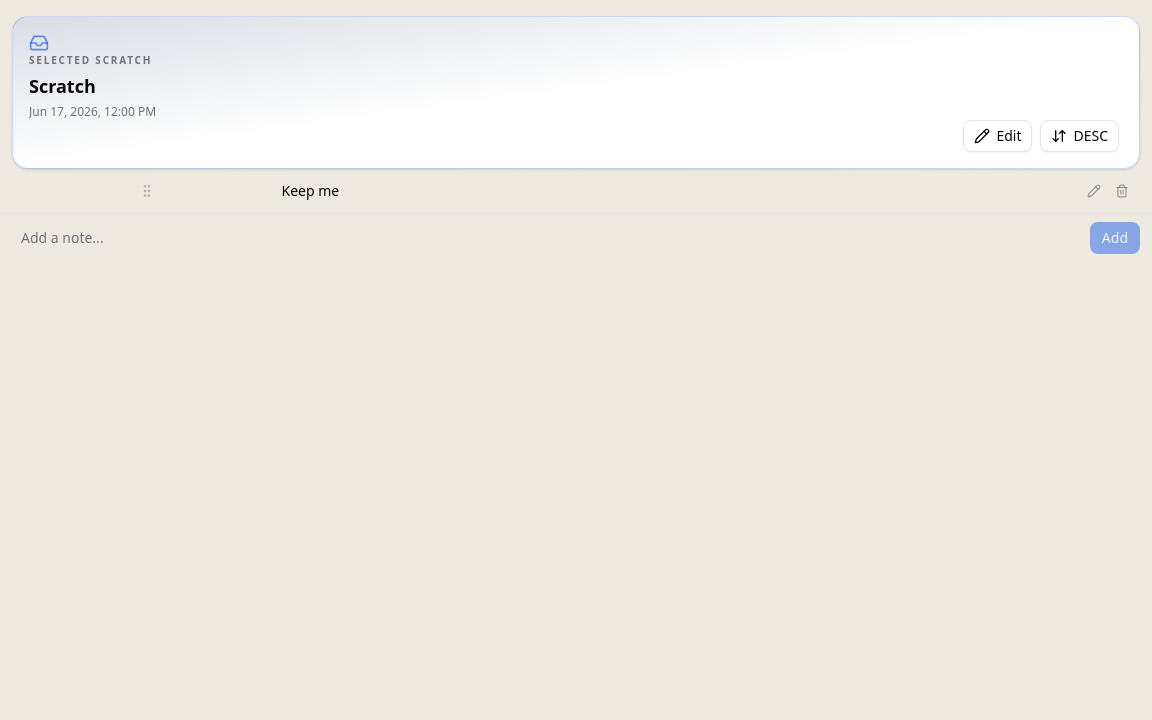
Scenario: BreakdownPanel › does not delete when cancelling the confirmation dialog
The image size is (1152, 720).
Click the button named "Delete" at point(1122, 191), box [1108,177,1136,205]
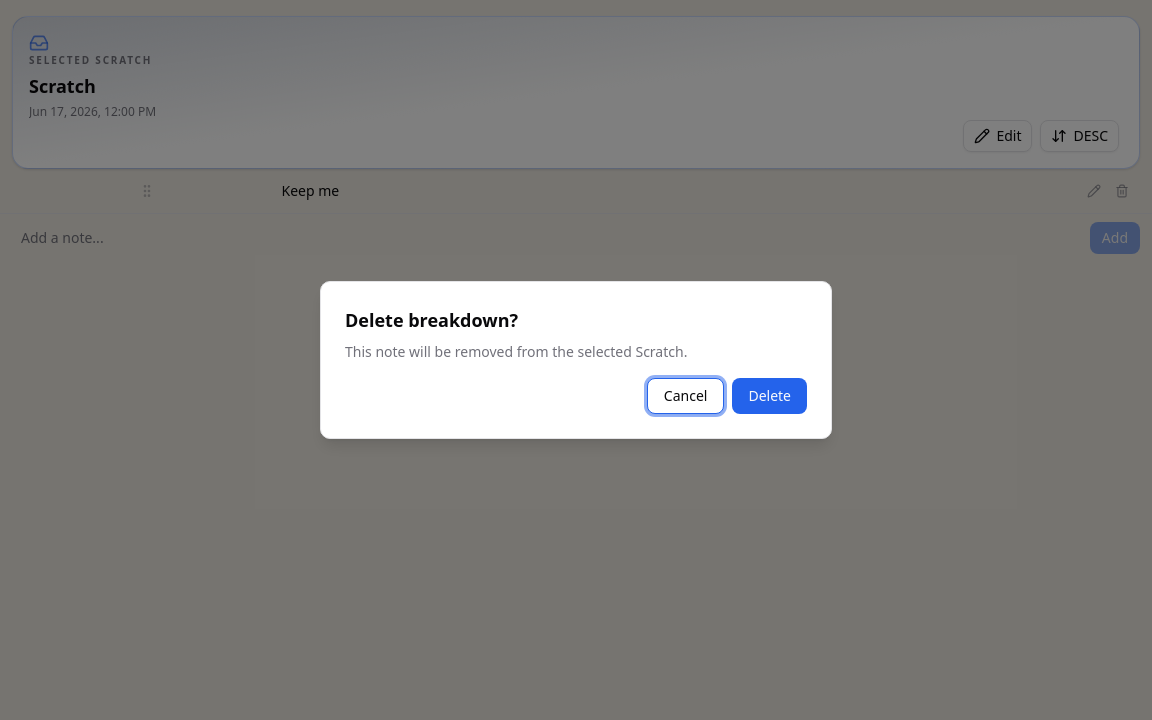
Click the button "Cancel" at point(686, 396), box [647,378,724,414]
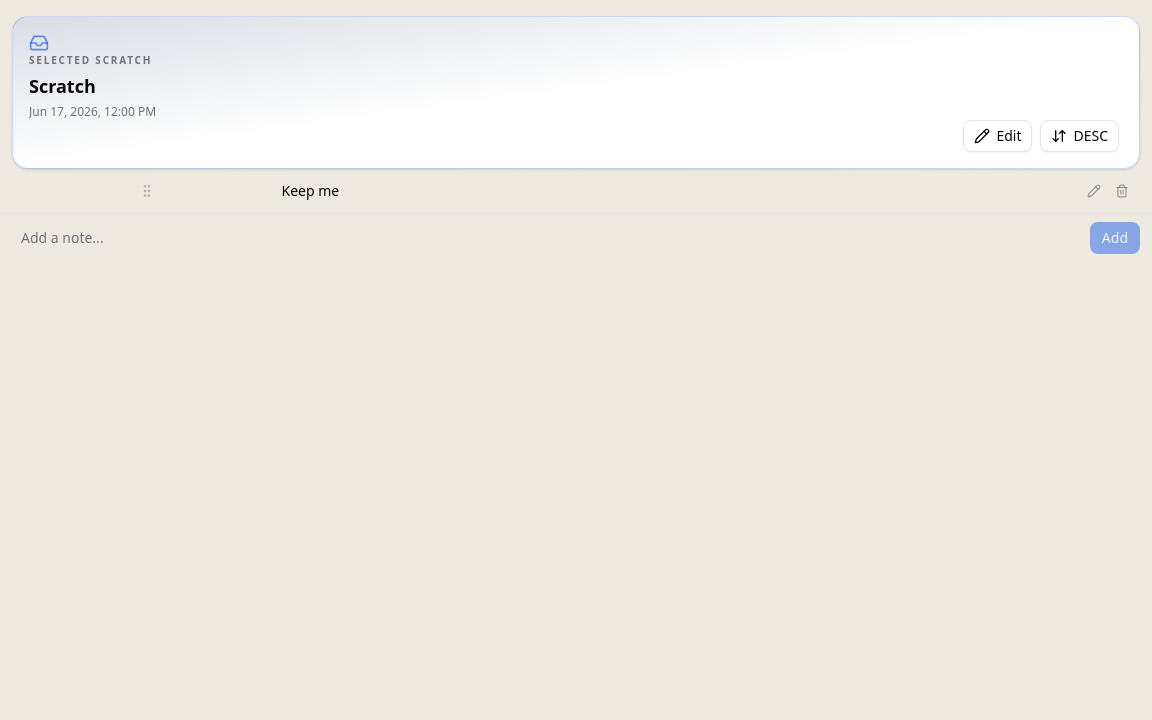
Now the dialog is gone
